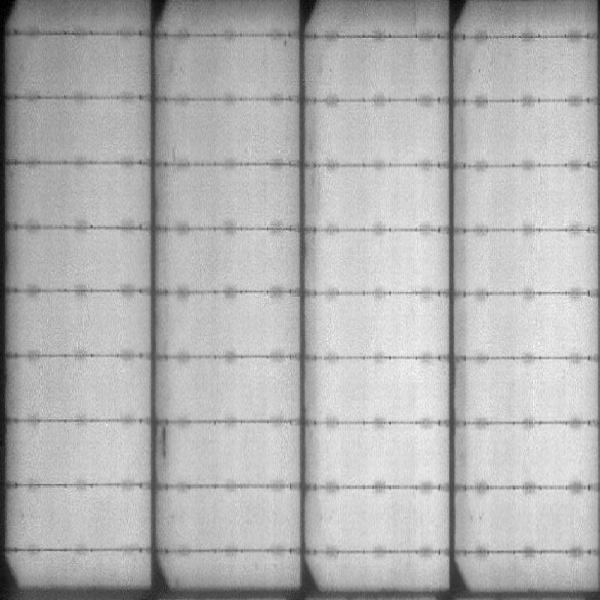scratch: (159, 427, 169, 457)
